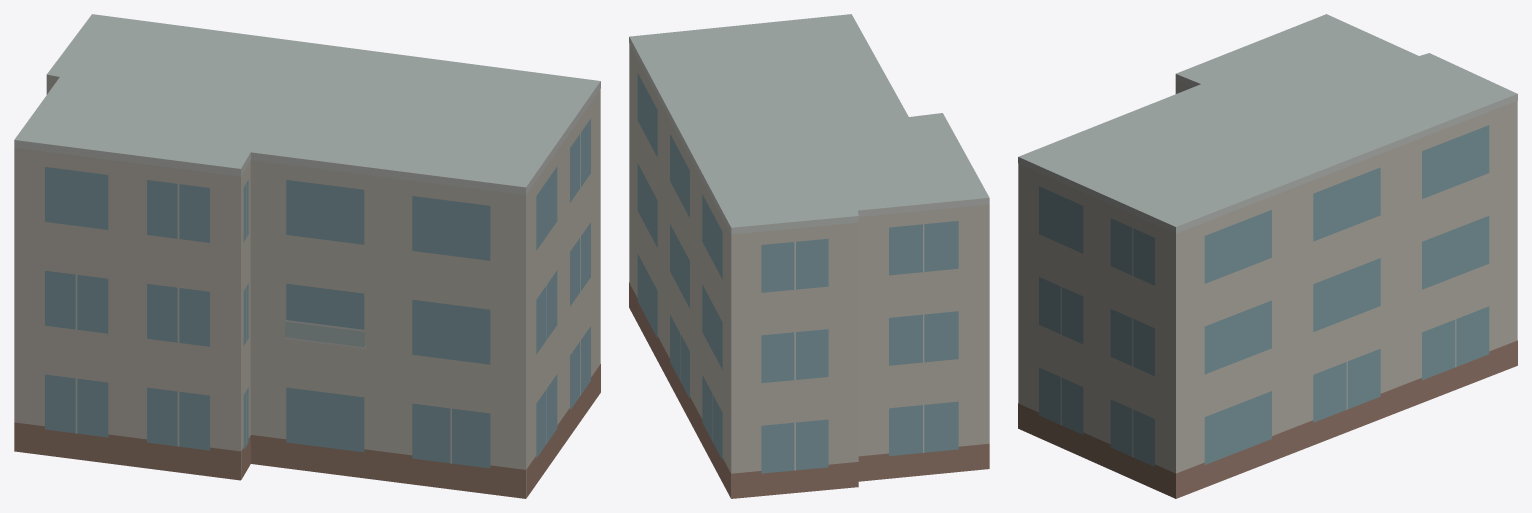
The model's file is survey-upis-32888198.glb.
The picture shows the model from 3 angles, left to right: view 1: azimuth 30°, elevation 25°; view 2: azimuth 150°, elevation 25°; view 3: azimuth 270°, elevation 25°; orthographic projection. The views are drawn at different scales.
Visible parts, largest first — view 1: survey-upis-32888198.tmp; view 2: survey-upis-32888198.tmp; view 3: survey-upis-32888198.tmp.
Part boxes in pixels (left/top/right/bottom): survey-upis-32888198.tmp: left=14, top=14, right=600, bottom=498; survey-upis-32888198.tmp: left=629, top=14, right=989, bottom=498; survey-upis-32888198.tmp: left=1018, top=14, right=1517, bottom=498.
Size of the model in its own units: 16.65 by 9.9 by 16.5.
